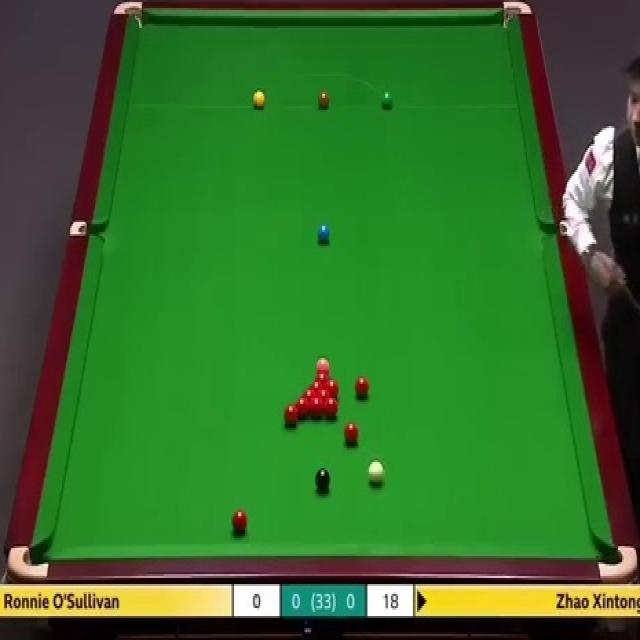black-ball: (314, 466, 332, 492)
blue-ball: (316, 223, 331, 246)
brown-ball: (316, 90, 331, 110)
green-ball: (380, 90, 394, 108)
pink-ball: (316, 356, 330, 369)
red-ball: (342, 421, 360, 448), (230, 508, 249, 533), (353, 375, 371, 400), (282, 402, 300, 427), (324, 396, 340, 418), (295, 396, 310, 419), (311, 396, 324, 418), (331, 378, 344, 399), (319, 370, 330, 386), (317, 388, 331, 398), (305, 388, 316, 397)
white-ball: (366, 458, 385, 486)
yellow-ball: (252, 89, 264, 109)
